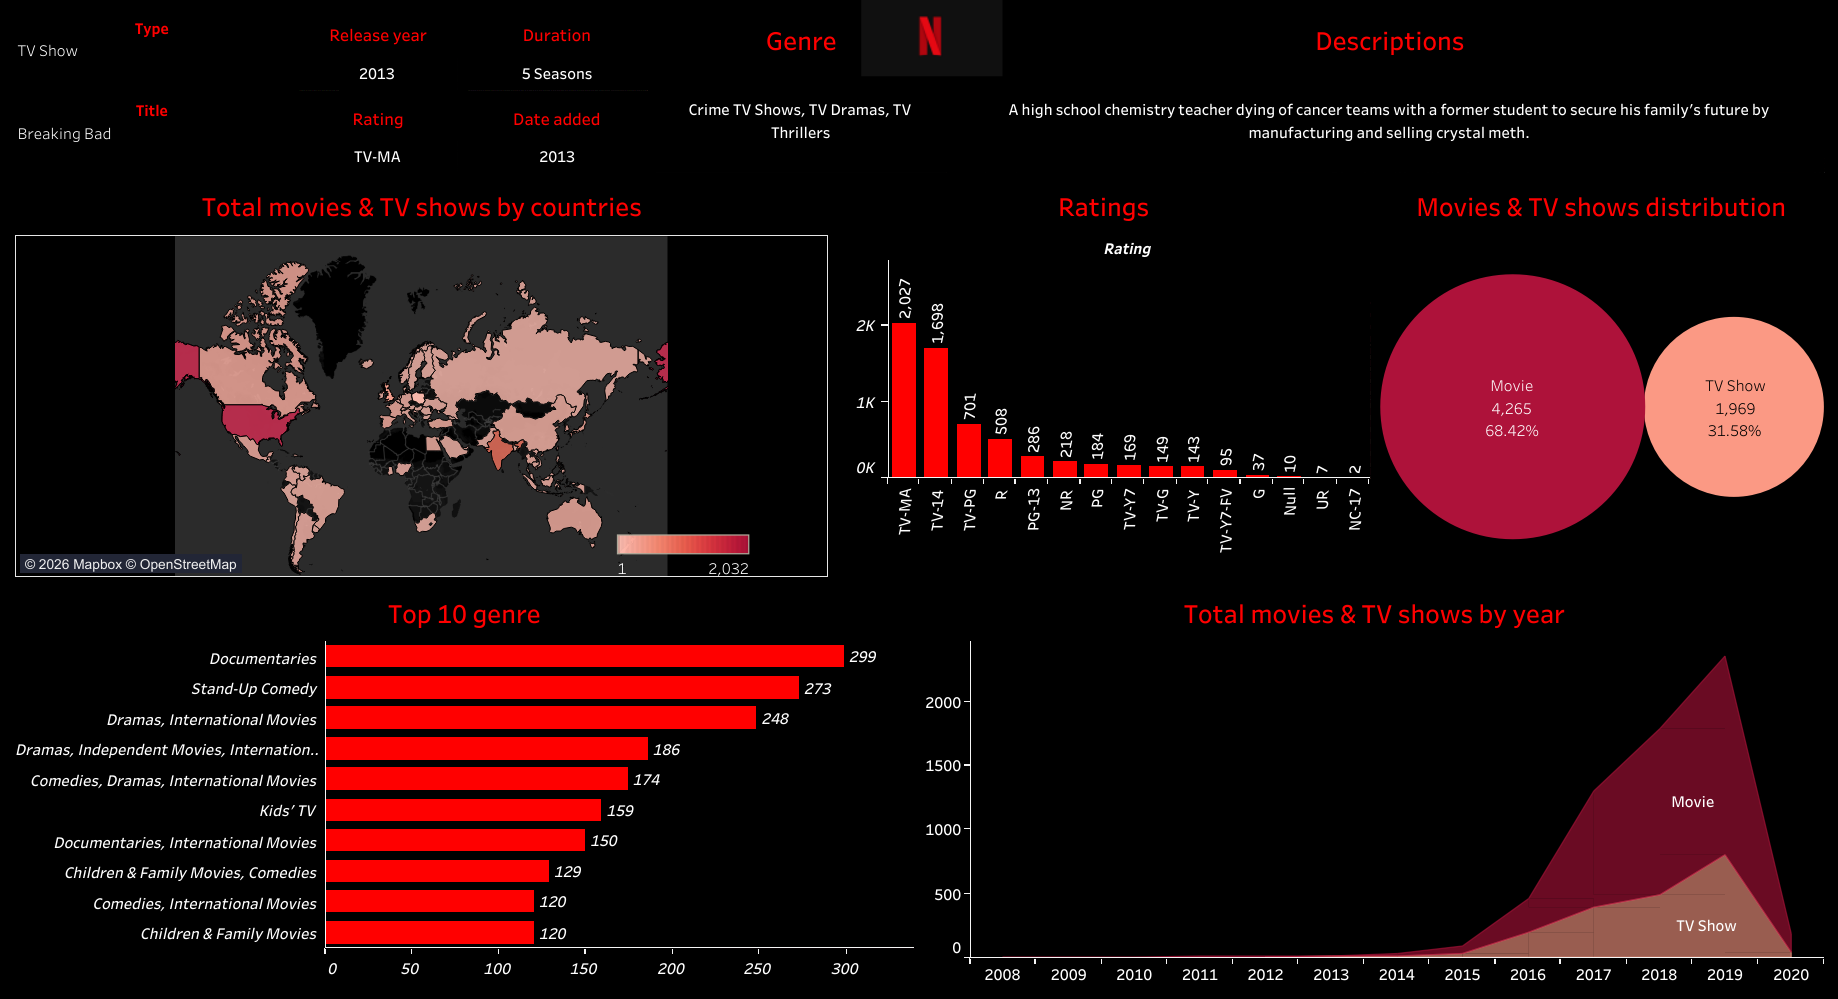

The page's visual inventory and layout, read from the dashboard file:
{"tool":"tableau","page":{"name":"Dashboard 1","canvas":[1000,1000],"units":"permille","ordinal":0},"visuals":[{"type":"filter","title":"Descriptions","param":"[federated.1ed7eqd02etshm1gxo18902wzuoc].[none:type:nk]","box":[4.4,9.3,154.5,83.2]},{"type":"worksheet","title":"Release year","mark":"Automatic","box":[158.9,9.3,92.2,84.3]},{"type":"worksheet","title":"Duration","mark":"Automatic","box":[251.1,9.3,102.8,84.3]},{"type":"worksheet","title":"Genre","mark":"Automatic","box":[353.9,9.3,163.3,166.4]},{"type":"worksheet","title":"Descriptions","mark":"Automatic","box":[517.2,9.3,478.3,166.4]},{"type":"filter","title":"Descriptions","param":"[federated.1ed7eqd02etshm1gxo18902wzuoc].[none:title:nk]","box":[4.4,92.4,154.5,83.3]},{"type":"worksheet","title":"Rating individuals","mark":"Automatic","box":[158.9,93.5,92.2,82.2]},{"type":"worksheet","title":"Date added","mark":"Automatic","box":[251.1,93.5,102.8,82.2]},{"type":"worksheet","title":"Total Mov & TV shows by countries","mark":"Multipolygon","box":[4.4,175.7,449.2,407.4]},{"type":"worksheet","title":"Ratings","mark":"Automatic","rows":["show_id"],"cols":["rating"],"box":[453.6,175.7,294.2,407.4]},{"type":"worksheet","title":"Mov and TV shows distribution","mark":"Circle","box":[747.8,175.7,247.8,407.4]},{"type":"legend","title":"Total Mov & TV shows by countries","param":"[federated.1ed7eqd02etshm1gxo18902wzuoc].[ctd:show_id:qk]","box":[332.8,530,77.8,47.8]},{"type":"worksheet","title":"Top 10 genres","mark":"Automatic","rows":["listed_in"],"cols":["show_id"],"box":[4.4,583.1,495.6,407.6]},{"type":"worksheet","title":"Total movies & TV shows by year","mark":"Area","rows":["show_id"],"cols":["date_added"],"box":[500,583.1,495.6,407.6]}]}

Visuals, with their boxes on the dashboard's canvas, which has no fixed pixel size, in thousandths of its width and height (x1, y1, x2, y2). These are canvas units, not pixel positions in the 1838x999 screenshot, which may show the page scaled, cropped or inside an application window:
"Descriptions" filter: <bbox>4, 9, 159, 92</bbox>
"Release year" worksheet: <bbox>159, 9, 251, 94</bbox>
"Duration" worksheet: <bbox>251, 9, 354, 94</bbox>
"Genre" worksheet: <bbox>354, 9, 517, 176</bbox>
"Descriptions" worksheet: <bbox>517, 9, 996, 176</bbox>
"Descriptions" filter: <bbox>4, 92, 159, 176</bbox>
"Rating individuals" worksheet: <bbox>159, 94, 251, 176</bbox>
"Date added" worksheet: <bbox>251, 94, 354, 176</bbox>
"Total Mov & TV shows by countries" worksheet (Multipolygon marks): <bbox>4, 176, 454, 583</bbox>
"Ratings" worksheet: <bbox>454, 176, 748, 583</bbox>
"Mov and TV shows distribution" worksheet (Circle marks): <bbox>748, 176, 996, 583</bbox>
"Total Mov & TV shows by countries" legend: <bbox>333, 530, 411, 578</bbox>
"Top 10 genres" worksheet: <bbox>4, 583, 500, 991</bbox>
"Total movies & TV shows by year" worksheet (Area marks): <bbox>500, 583, 996, 991</bbox>
